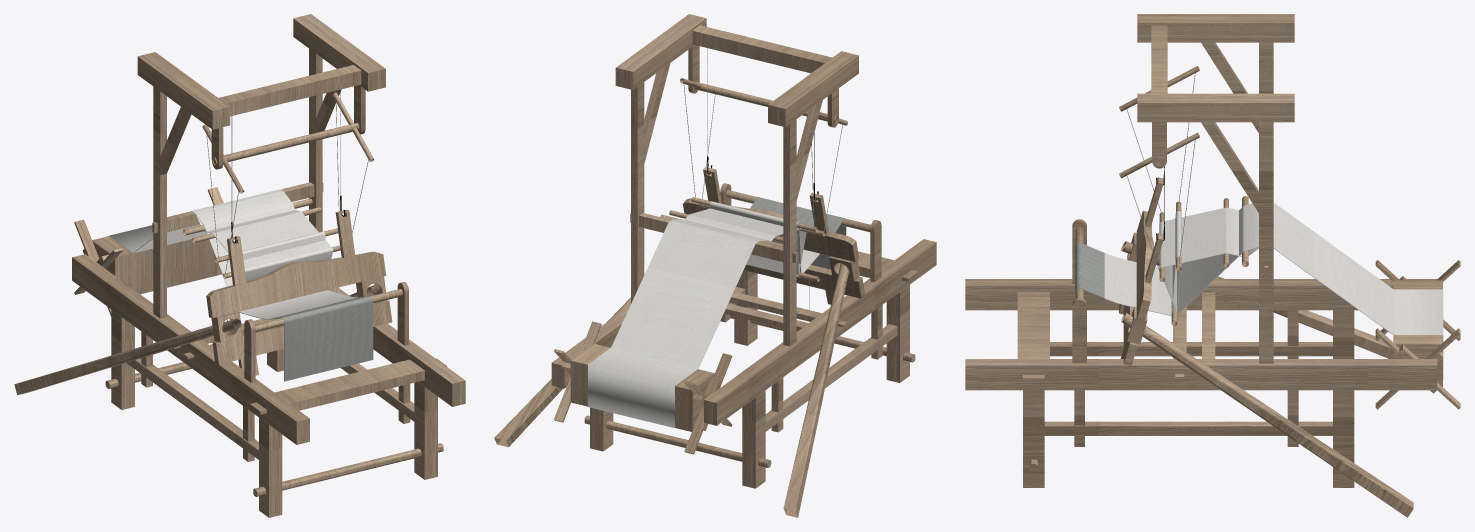
Rendered from LimeExp_4.fbx.
3 renders of one model, left to right at view 1: azimuth 30°, elevation 25°; view 2: azimuth 150°, elevation 25°; view 3: azimuth 270°, elevation 25°, orthographic. The views are drawn at different scales.
Visible parts, largest first — view 1: Rectangle180, Line055, Rectangle181, Line059, Rectangle188, Line052, Rectangle187, Rectangle223, Rectangle194, Line057, Rectangle190, Rectangle182 (+15 smaller); view 2: Line055, Rectangle180, Rectangle181, Rectangle187, Rectangle188, Rectangle219, Rectangle190, Rectangle223, Rectangle182, Rectangle189, Rectangle183, Line052 (+15 smaller); view 3: Rectangle180, Line055, Rectangle188, Rectangle182, Rectangle181, Rectangle222, Rectangle187, Line057, Rectangle194, Rectangle189, Rectangle223, Rectangle184 (+9 smaller).
Part boxes in pixels (x1,y1,x2,y2): Rectangle180: [72, 254, 465, 444]; Line055: [109, 190, 345, 319]; Rectangle181: [111, 309, 437, 517]; Line059: [270, 296, 373, 381]; Rectangle188: [137, 14, 385, 129]; Line052: [206, 251, 386, 317]; Rectangle187: [153, 48, 322, 318]; Rectangle223: [92, 236, 221, 293]; Rectangle194: [274, 359, 424, 410]; Line057: [192, 189, 357, 319]; Rectangle190: [219, 65, 361, 116]; Rectangle182: [126, 358, 414, 459]; Line055: [588, 208, 819, 428]; Rectangle180: [551, 239, 936, 425]; Rectangle181: [590, 270, 909, 488]; Rectangle187: [631, 82, 796, 346]; Rectangle188: [615, 14, 858, 127]; Rectangle219: [783, 263, 848, 517]; Rectangle190: [692, 25, 831, 73]; Rectangle223: [570, 344, 714, 431]; Rectangle182: [728, 287, 897, 431]; Rectangle189: [640, 63, 822, 200]; Rectangle183: [584, 315, 915, 467]; Line052: [683, 198, 858, 261]; Rectangle180: [965, 279, 1437, 390]; Line055: [1106, 202, 1443, 379]; Rectangle188: [1137, 14, 1294, 122]; Rectangle182: [1044, 342, 1332, 435]; Rectangle181: [1023, 310, 1354, 487]; Rectangle222: [1121, 312, 1413, 517]; Rectangle187: [1259, 42, 1273, 363]; Line057: [1104, 203, 1258, 315]; Rectangle194: [1017, 292, 1049, 358]; Rectangle189: [1201, 42, 1261, 212]; Rectangle223: [1393, 280, 1442, 386]; Rectangle184: [1074, 310, 1298, 446].
Size of the model in its own units: 1384 by 1580 by 1836.
5 materials, 5 textured.
